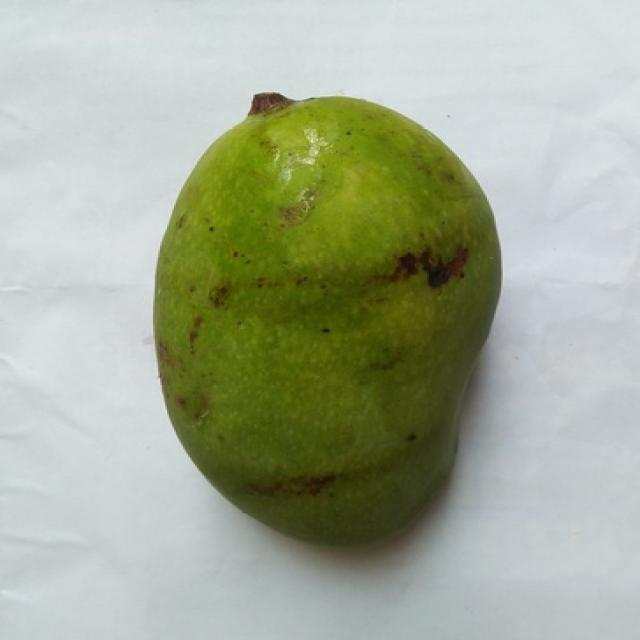Mango: (153, 95, 499, 546)
